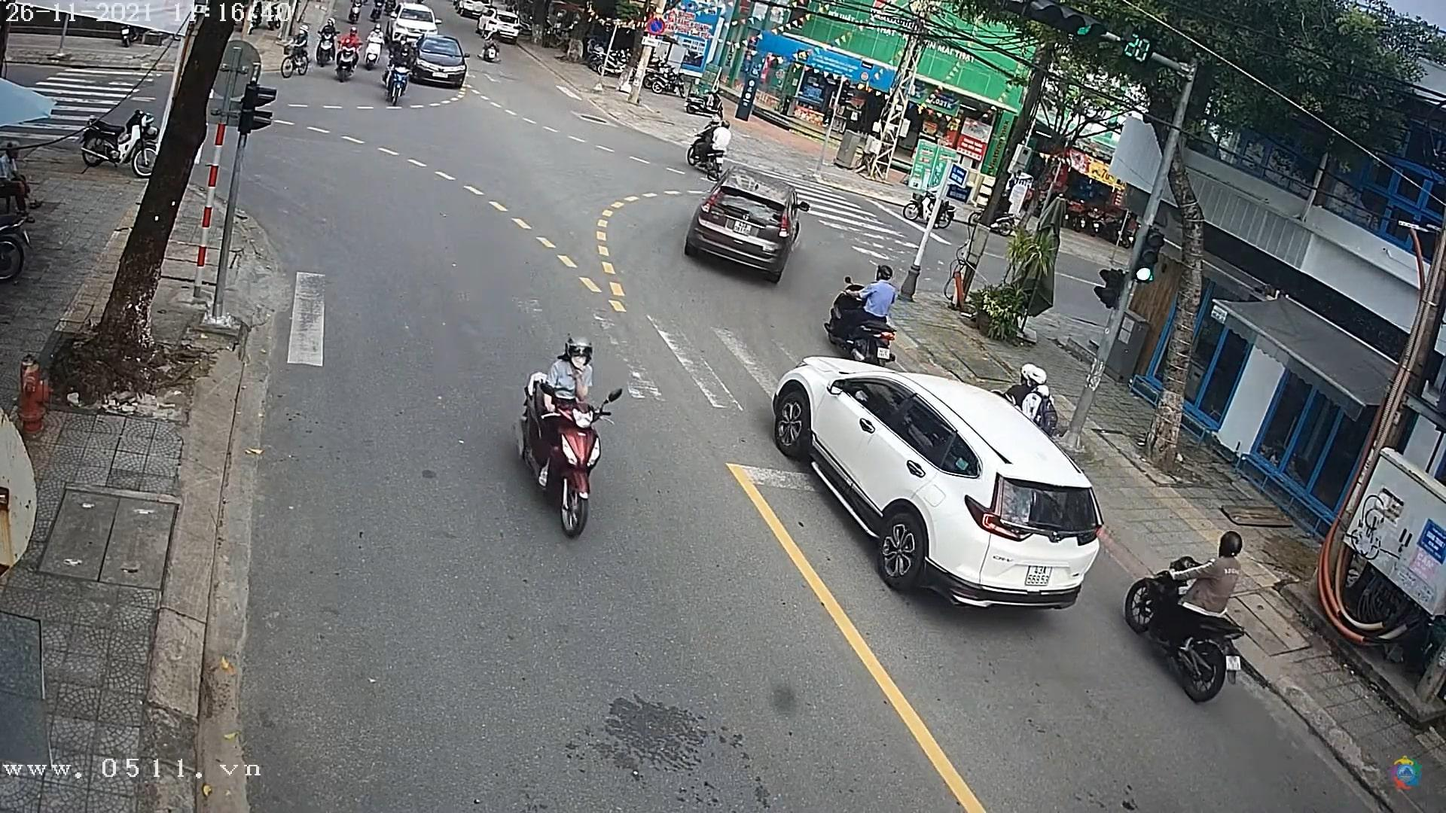car: (777, 357, 1117, 614), (681, 186, 800, 284), (414, 37, 468, 85), (395, 5, 434, 21)
motorbike: (1123, 550, 1248, 705), (524, 367, 620, 547), (825, 310, 898, 363), (684, 125, 725, 175), (383, 53, 412, 106), (336, 36, 358, 91)
